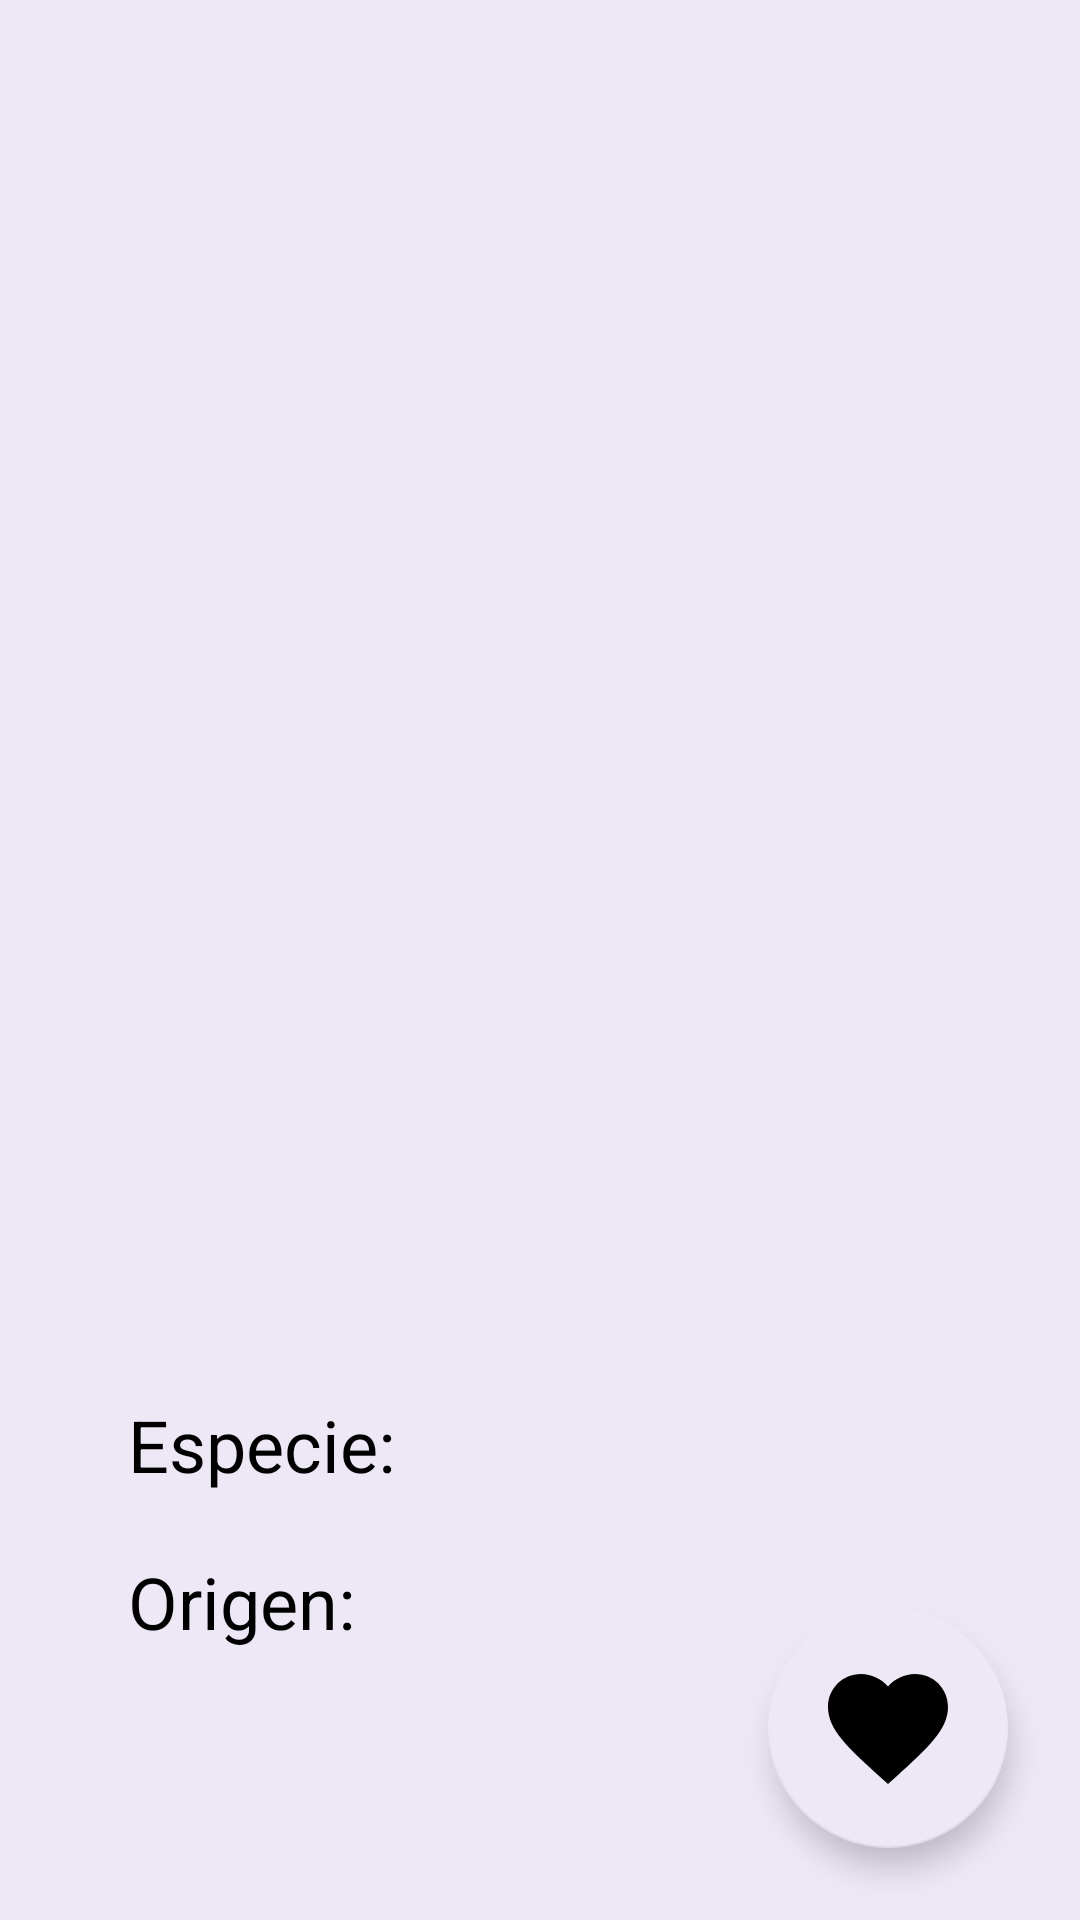

Where to tap for icons on this 1080×1920 app screen, as (x=x, y=y):
favorite: (x=888, y=1729)
